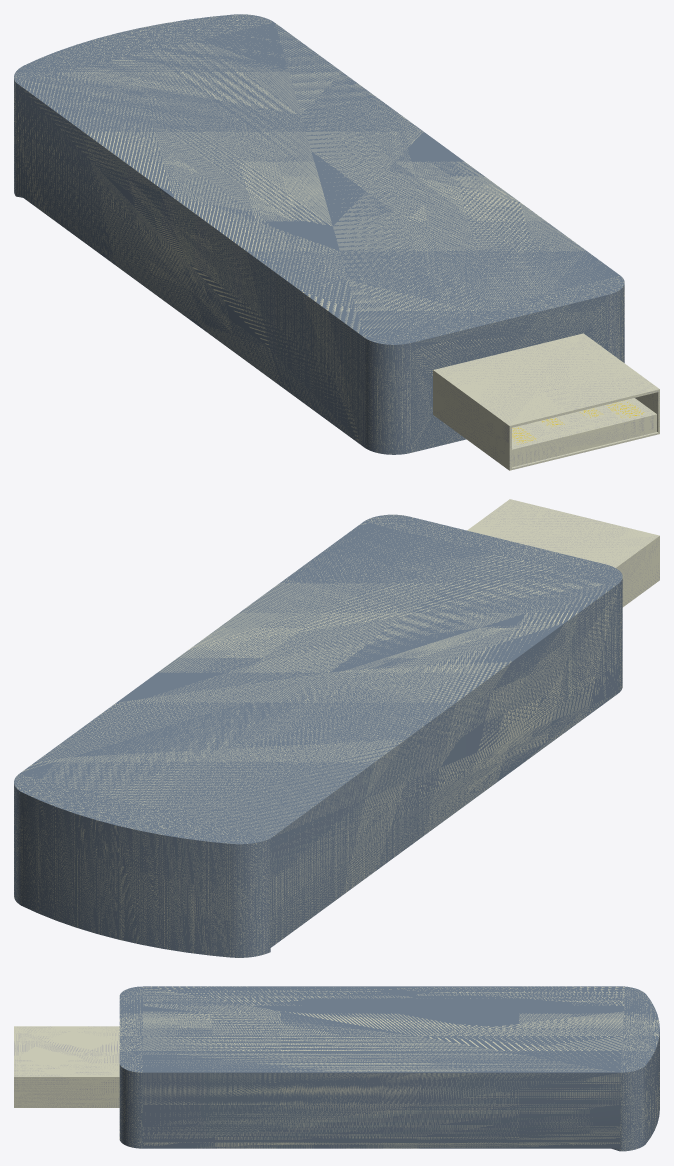
The model's file is original-2.obj.
The picture shows the model from 3 angles, top to bottom: view 1: azimuth 30°, elevation 25°; view 2: azimuth 150°, elevation 25°; view 3: azimuth 270°, elevation 25°; orthographic projection. The views are drawn at different scales.
Parts seen in each view (by area): view 1: mesh2/mesh2-geometry#mesh2-geometry; view 2: mesh2/mesh2-geometry#mesh2-geometry; view 3: mesh2/mesh2-geometry#mesh2-geometry.
Part boxes in pixels (x1,y1,x2,y2): mesh2/mesh2-geometry#mesh2-geometry: [14, 14, 659, 470]; mesh2/mesh2-geometry#mesh2-geometry: [14, 499, 659, 957]; mesh2/mesh2-geometry#mesh2-geometry: [14, 986, 659, 1151].
Size of the model in its own units: 0.4274 by 0.1823 by 1.35.
